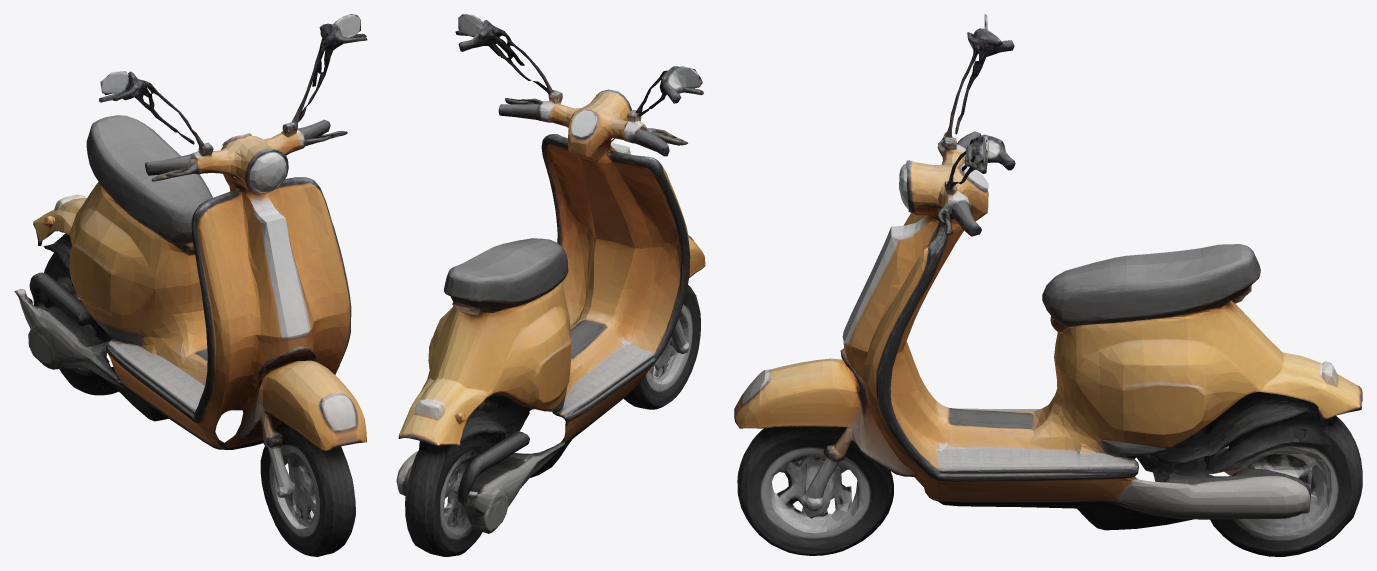
The model's file is scooter_parked.glb.
3 views of the same model, side by side, from view 1: azimuth 30°, elevation 25°; view 2: azimuth 150°, elevation 25°; view 3: azimuth 270°, elevation 25° (orthographic). The views are drawn at different scales.
Visible parts, largest first — view 1: world; view 2: world; view 3: world.
Boxes of the visible parts, x1=… form: world: x1=14, y1=14, x2=367, y2=556; world: x1=396, y1=14, x2=705, y2=556; world: x1=734, y1=14, x2=1362, y2=556.
Size of the model in its own units: 0.5209 by 0.8373 by 0.9988.
1 material, 1 textured.
